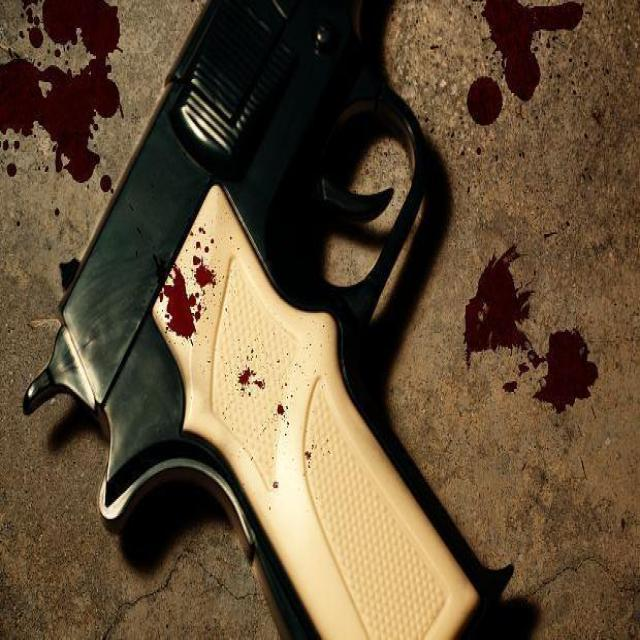flood: (0, 0, 122, 180), (465, 249, 600, 410), (470, 0, 583, 125)
